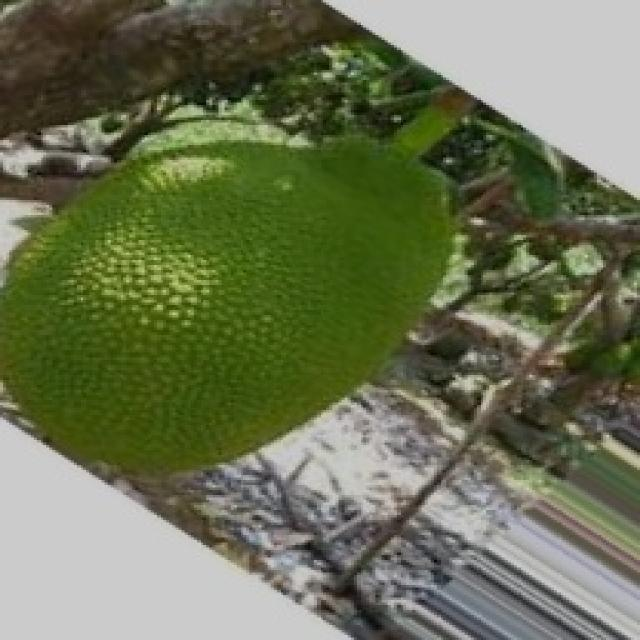Fruit: (74, 112, 492, 480)
